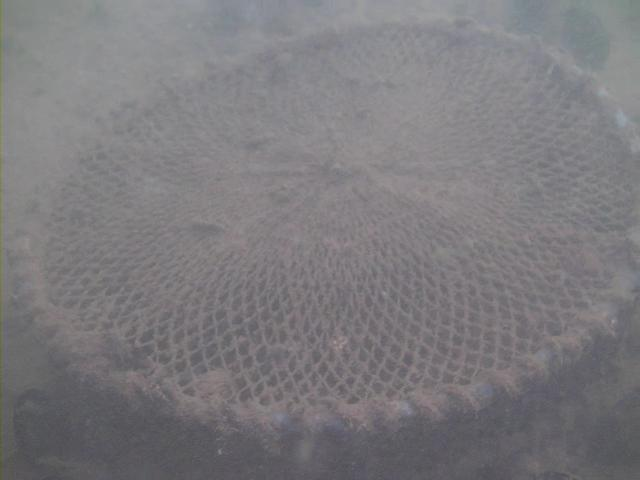circular fish trap: (13, 12, 640, 480)
